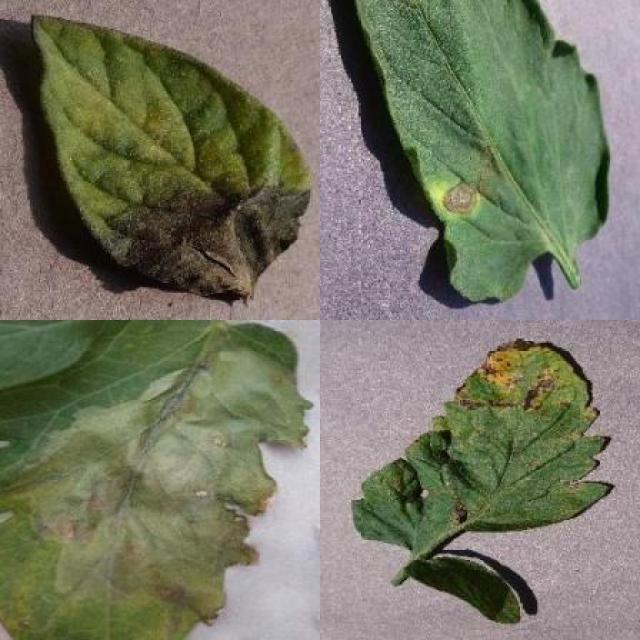Early Blight: (355, 0, 611, 306)
Late Blight: (0, 320, 314, 640), (33, 13, 313, 304)
Septoria: (348, 339, 612, 546)
